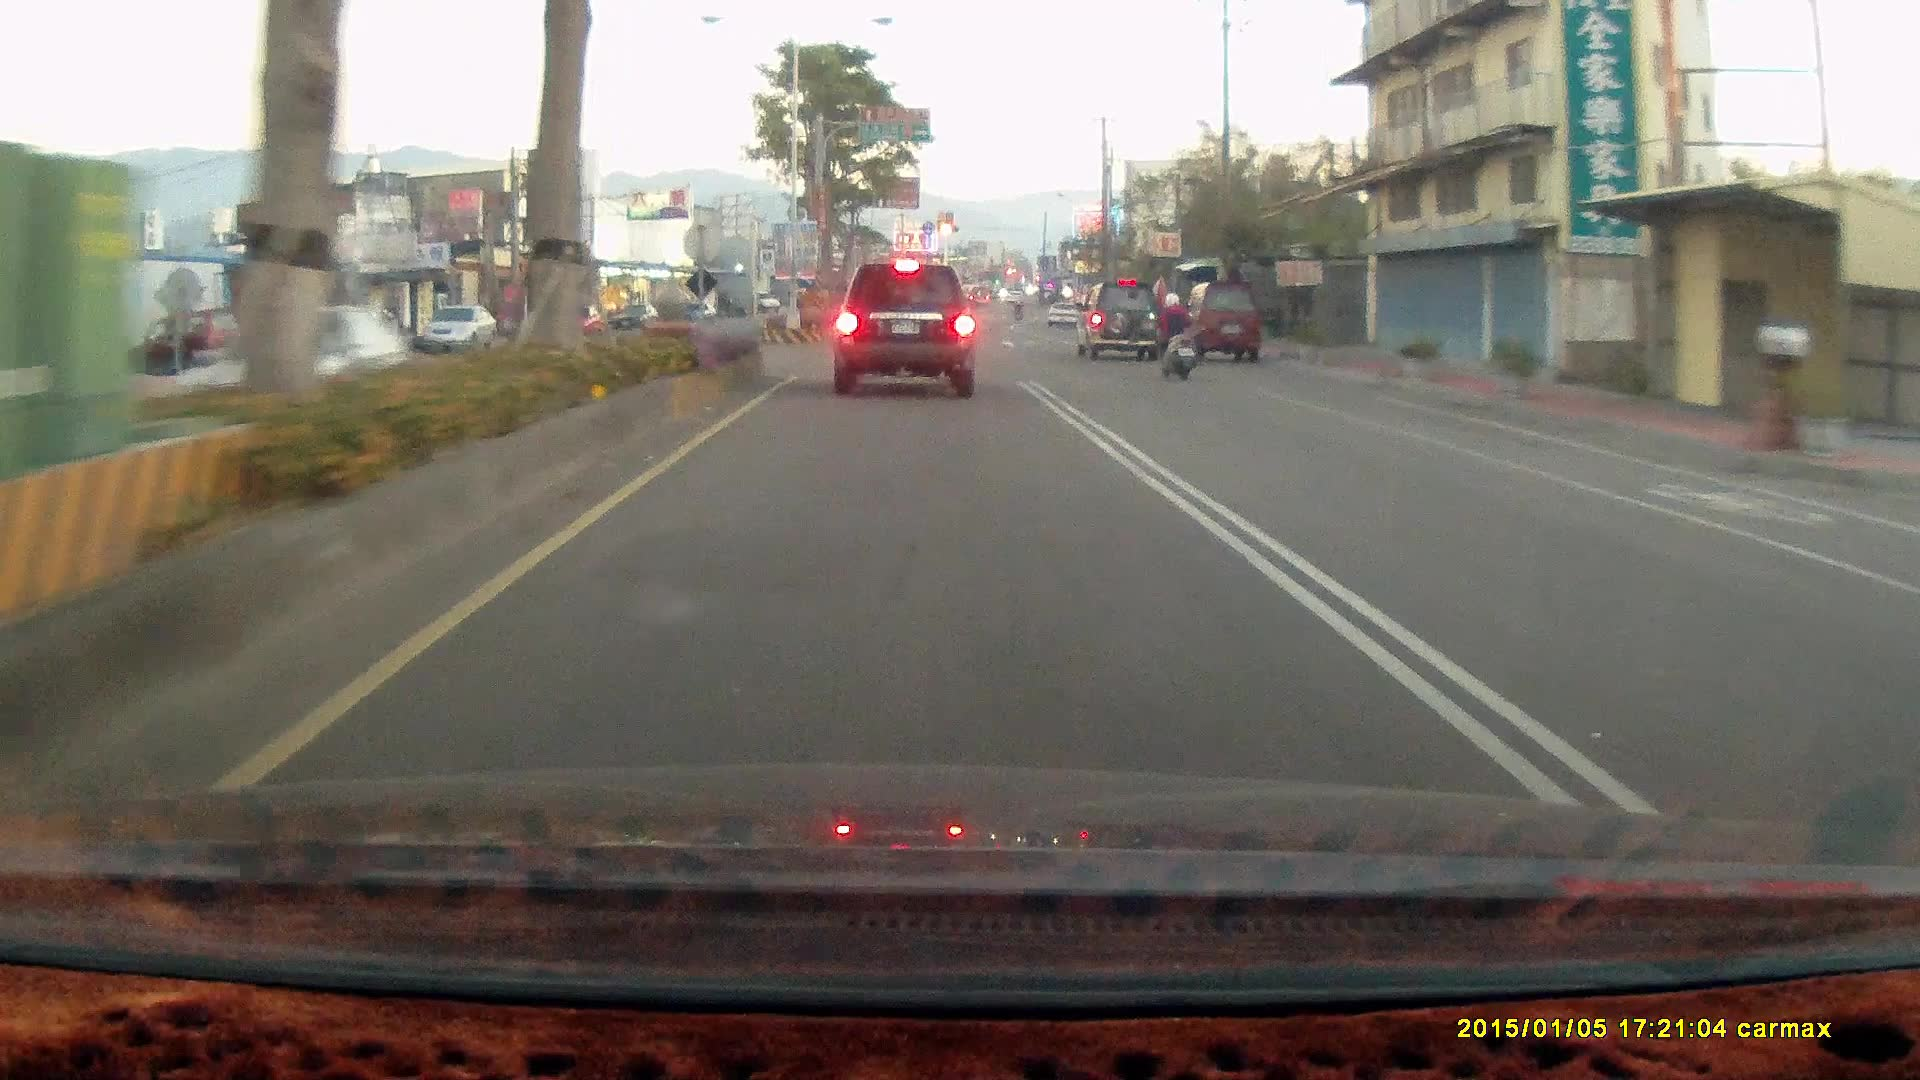rider: (1142, 284, 1206, 384), (1143, 291, 1194, 382)
vehicle: (831, 256, 985, 401), (833, 263, 975, 398), (1079, 281, 1172, 367), (1179, 281, 1264, 371), (1070, 280, 1160, 361), (1183, 281, 1261, 361), (416, 302, 498, 348)
